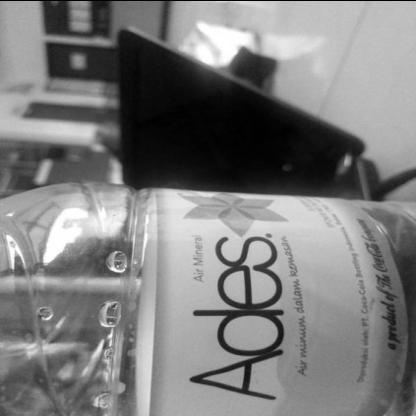plastic_bottles: (2, 187, 413, 416)
